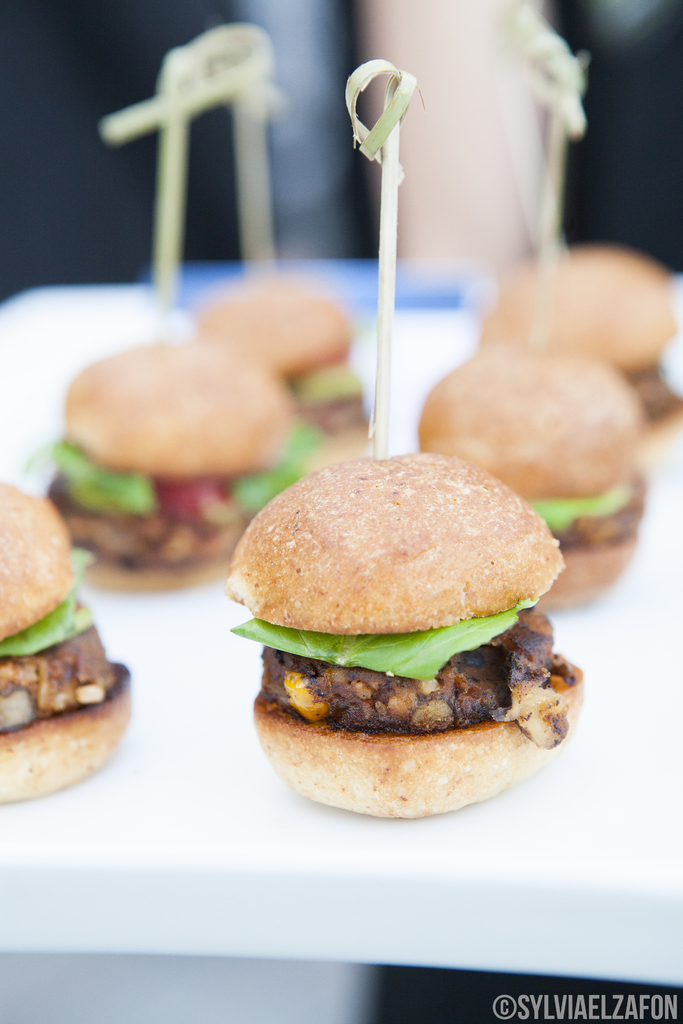Hamburger: (225, 451, 584, 819), (46, 337, 316, 588), (415, 341, 643, 602), (0, 487, 126, 807), (477, 250, 682, 439), (199, 273, 369, 444)
